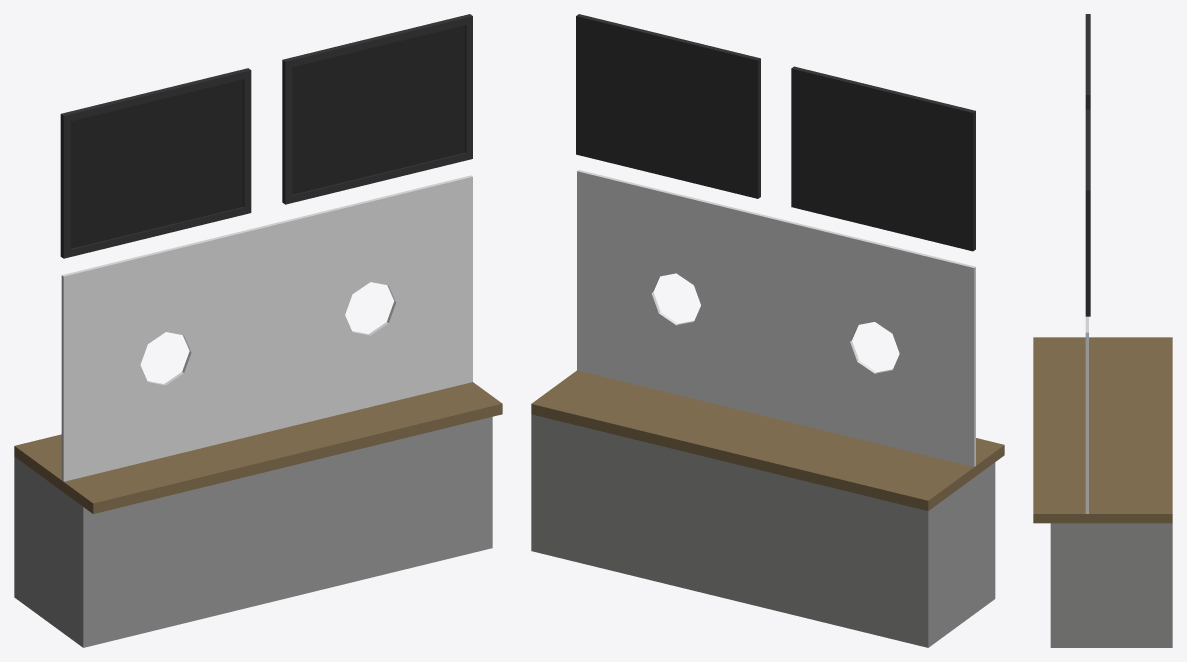
File: SM_Props_Interior_Generic_Bank_Counter.fbx
3 views of the same model, side by side, from view 1: azimuth 30°, elevation 25°; view 2: azimuth 150°, elevation 25°; view 3: azimuth 270°, elevation 25° (orthographic). The views are drawn at different scales.
Parts seen in each view (by area): view 1: SM_Props_Interior_Generic_Bank_Counter; view 2: SM_Props_Interior_Generic_Bank_Counter; view 3: SM_Props_Interior_Generic_Bank_Counter.
Part boxes in pixels (x1,y1,x2,y2): SM_Props_Interior_Generic_Bank_Counter: (14, 14, 502, 647); SM_Props_Interior_Generic_Bank_Counter: (531, 14, 1004, 647); SM_Props_Interior_Generic_Bank_Counter: (1033, 14, 1172, 647).
Size of the model in its own units: 240 by 290 by 80.
